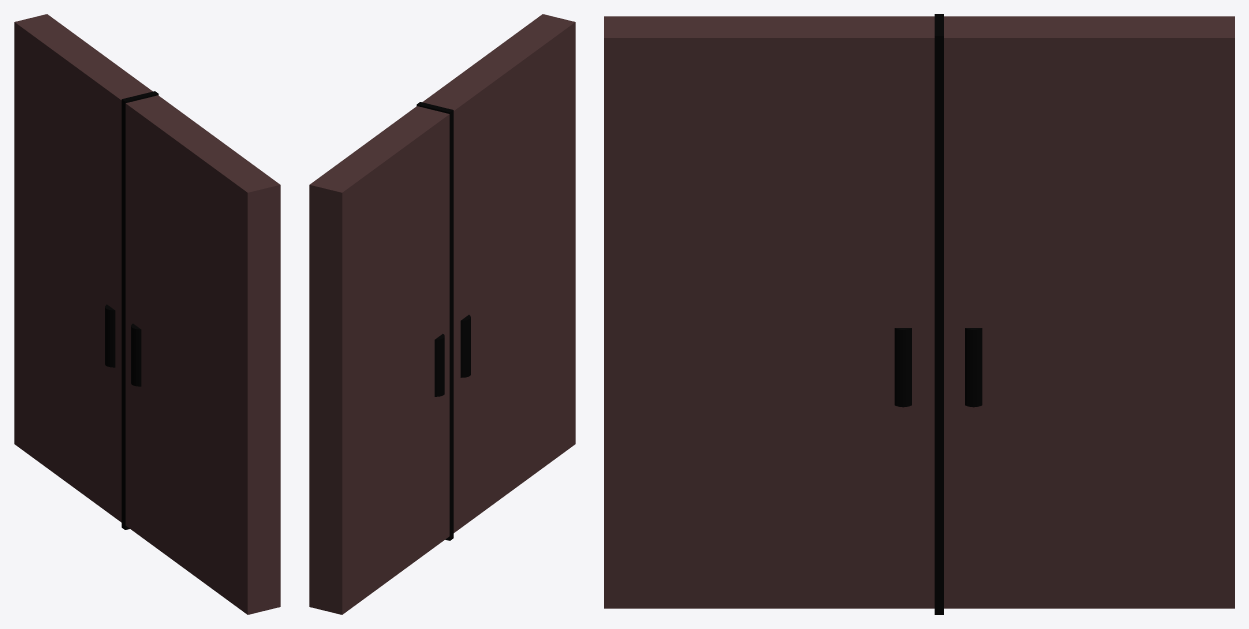
File: Doors.fbx
3 renders of one model, left to right at view 1: azimuth 30°, elevation 25°; view 2: azimuth 150°, elevation 25°; view 3: azimuth 270°, elevation 25°, orthographic. The views are drawn at different scales.
Parts seen in each view (by area): view 1: Cube.001, Cube, Cylinder, Cylinder.001; view 2: Cube.001, Cube, Cylinder, Cylinder.001; view 3: Cube.001, Cube, Cylinder, Cylinder.001.
Boxes of the visible parts, left/top/right/bottom form: Cube.001: left=14, top=14, right=280, bottom=614; Cube: left=121, top=91, right=158, bottom=529; Cylinder: left=131, top=323, right=141, bottom=386; Cylinder.001: left=105, top=304, right=115, bottom=367; Cube.001: left=309, top=14, right=575, bottom=614; Cube: left=416, top=102, right=453, bottom=540; Cylinder: left=460, top=315, right=470, bottom=377; Cylinder.001: left=434, top=334, right=444, bottom=396; Cube.001: left=604, top=16, right=1234, bottom=608; Cube: left=934, top=14, right=943, bottom=614; Cylinder: left=894, top=328, right=911, bottom=407; Cylinder.001: left=965, top=328, right=982, bottom=407.
Bounding box in the file's own units: 84.45 × 846 × 836.
